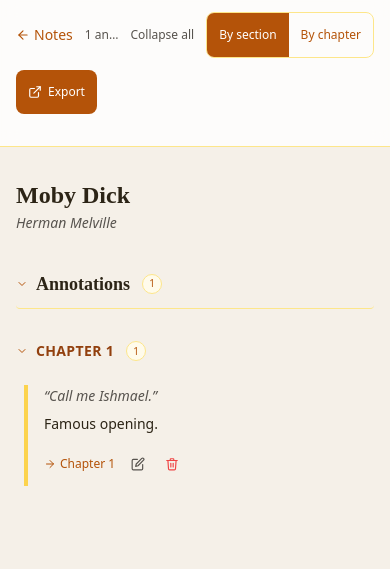
Test case: Save button in edit mode has min-h-[44px] touch target
The width and height of the screenshot is (390, 569).
Step 1. Click the button named "Edit annotation: Call me Ishmael." → (138, 464), box [127, 442, 149, 486]
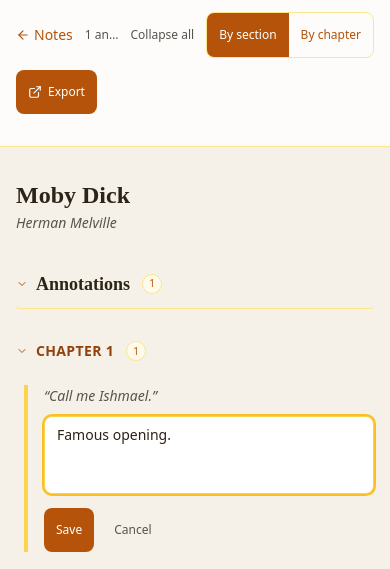
Expected: the button "Save" is shown, [44, 508, 94, 552]
